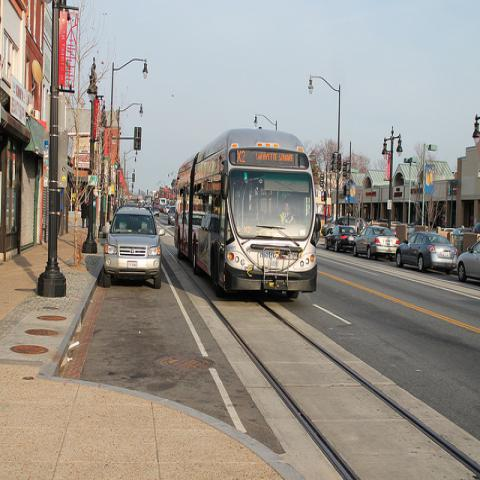bus: (173, 130, 321, 303)
car: (103, 203, 165, 288), (397, 231, 457, 273), (352, 226, 401, 260), (456, 238, 479, 282), (324, 226, 360, 253), (321, 217, 349, 236), (168, 205, 176, 225), (471, 220, 479, 233), (163, 206, 170, 214), (154, 208, 160, 217)
